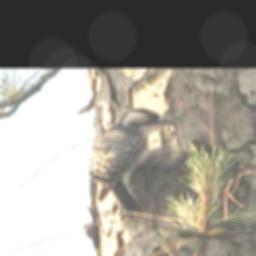Woodpecker: (88, 107, 178, 216)
